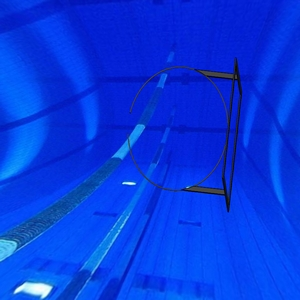circle: (125, 57, 244, 214)
